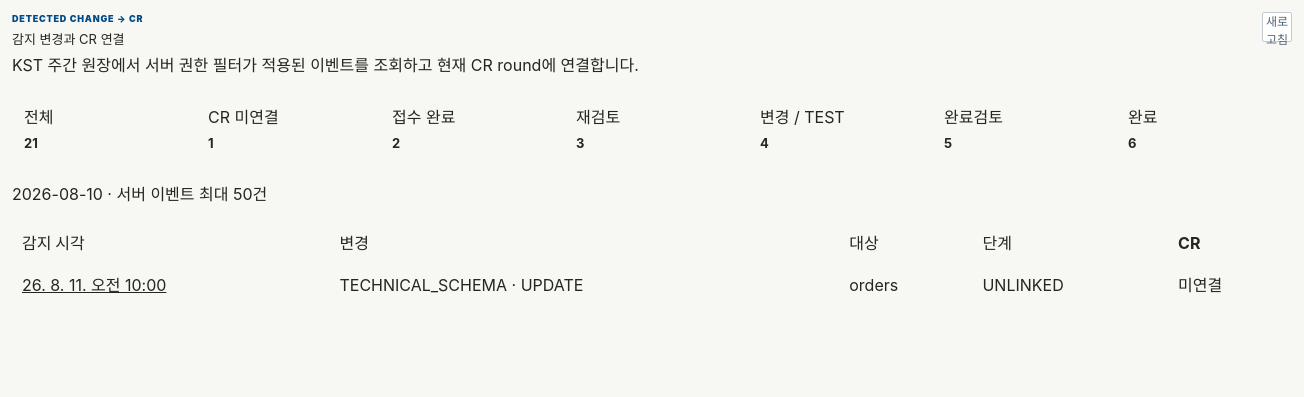
Test case: DetectedChangeCrPanel › fails closed when the fresh event and link-history ETags do not identify the same link head
Click the 9th button at (94, 284), box [22, 272, 166, 296]
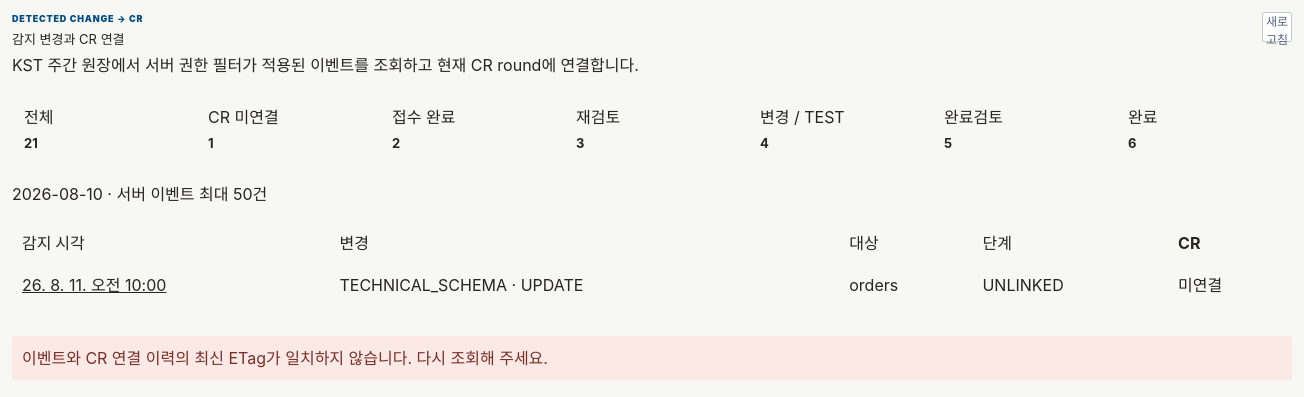
Expected: the message shows "이벤트와 CR 연결 이력의 최신 ETag가 일치하지 않습니다.", [22, 348, 548, 368]
